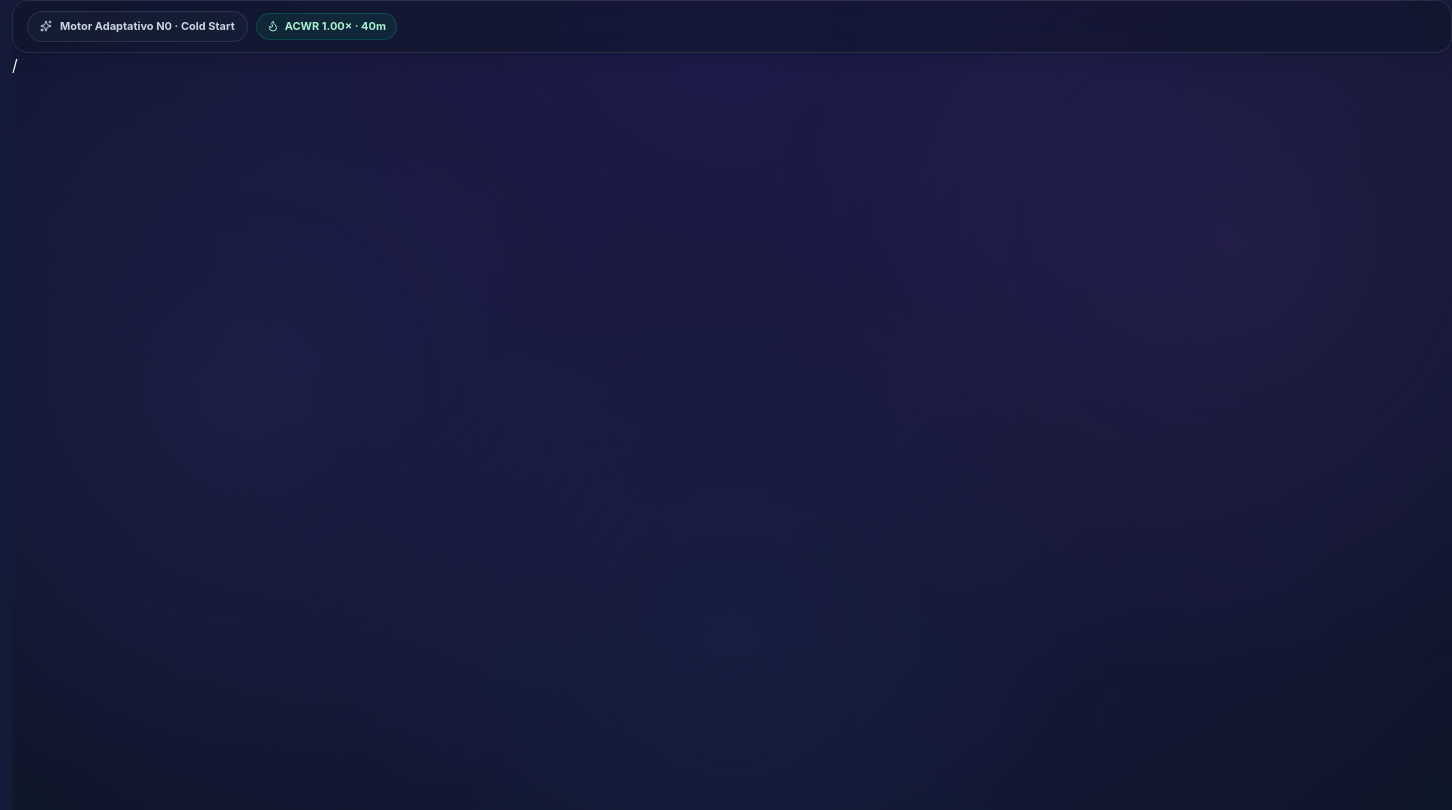
Scenario: Cross-Menu Architectural & UX Improvements (2026) › 5. Navigation & Global Command Palette (Ctrl+K) › navigates ACWR chip in AdaptivePulseStrip to /heatmap instead of broken /activity
Click the button "ACWR 1.00× · 40m". click: (326,26)
box: [256,13,397,40]
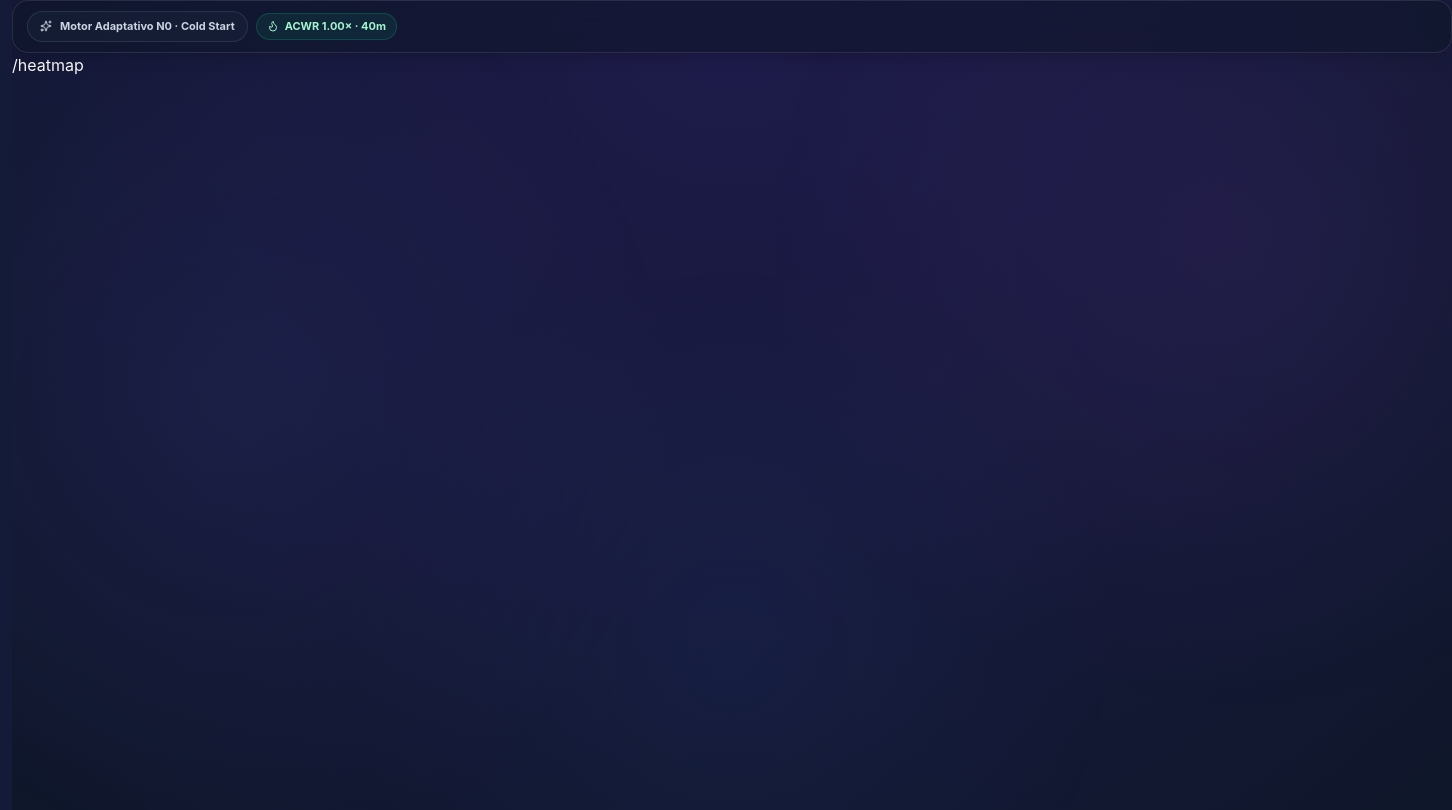
Expected: the text with test id "loc-probe" reads "/heatmap", [12,54,84,74]
